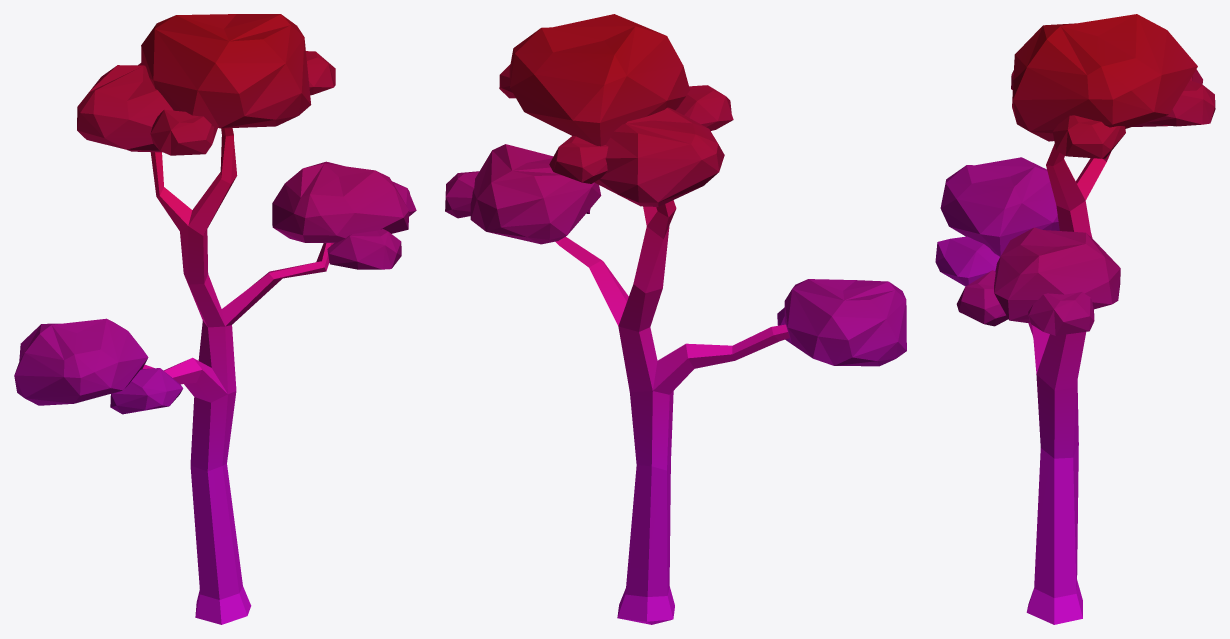
The model's file is synty-tree-tallround-01.gltf.
3 renders of one model, left to right at view 1: azimuth 30°, elevation 25°; view 2: azimuth 150°, elevation 25°; view 3: azimuth 270°, elevation 25°, orthographic. The views are drawn at different scales.
Visible parts, largest first — view 1: SM_Tree_TallRound_01; view 2: SM_Tree_TallRound_01; view 3: SM_Tree_TallRound_01.
Part boxes in pixels (box(x1,y1,x2,y2)): SM_Tree_TallRound_01: box(14, 14, 416, 624); SM_Tree_TallRound_01: box(445, 14, 906, 624); SM_Tree_TallRound_01: box(935, 14, 1215, 624).
Bounding box in the file's own units: 4.78 × 6.36 × 2.68.
